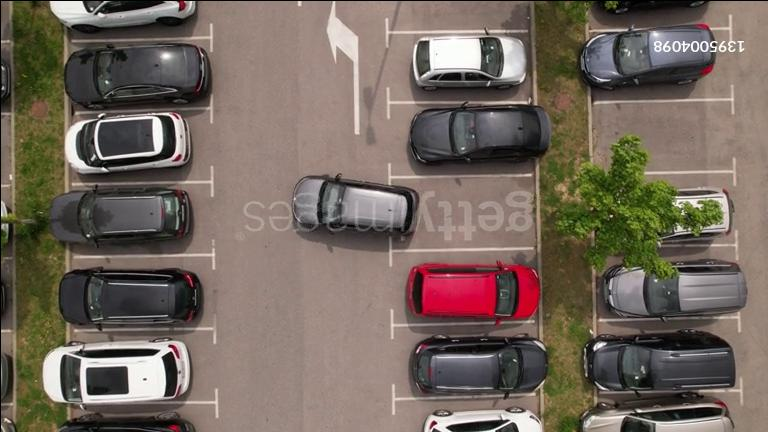car: (42, 338, 190, 405), (585, 330, 736, 392), (62, 43, 208, 107), (579, 24, 716, 89), (408, 105, 550, 165), (54, 268, 200, 326), (601, 260, 745, 318), (292, 175, 420, 240), (50, 188, 191, 247), (412, 336, 548, 396), (61, 112, 190, 175), (411, 34, 527, 90), (410, 263, 536, 311), (580, 395, 733, 432), (46, 1, 195, 32), (654, 189, 734, 243), (425, 406, 543, 432), (57, 412, 194, 432), (597, 1, 710, 17), (0, 270, 15, 328), (1, 353, 14, 402), (1, 202, 14, 247), (0, 59, 7, 104), (1, 417, 17, 432), (0, 201, 5, 241), (0, 280, 4, 319)
